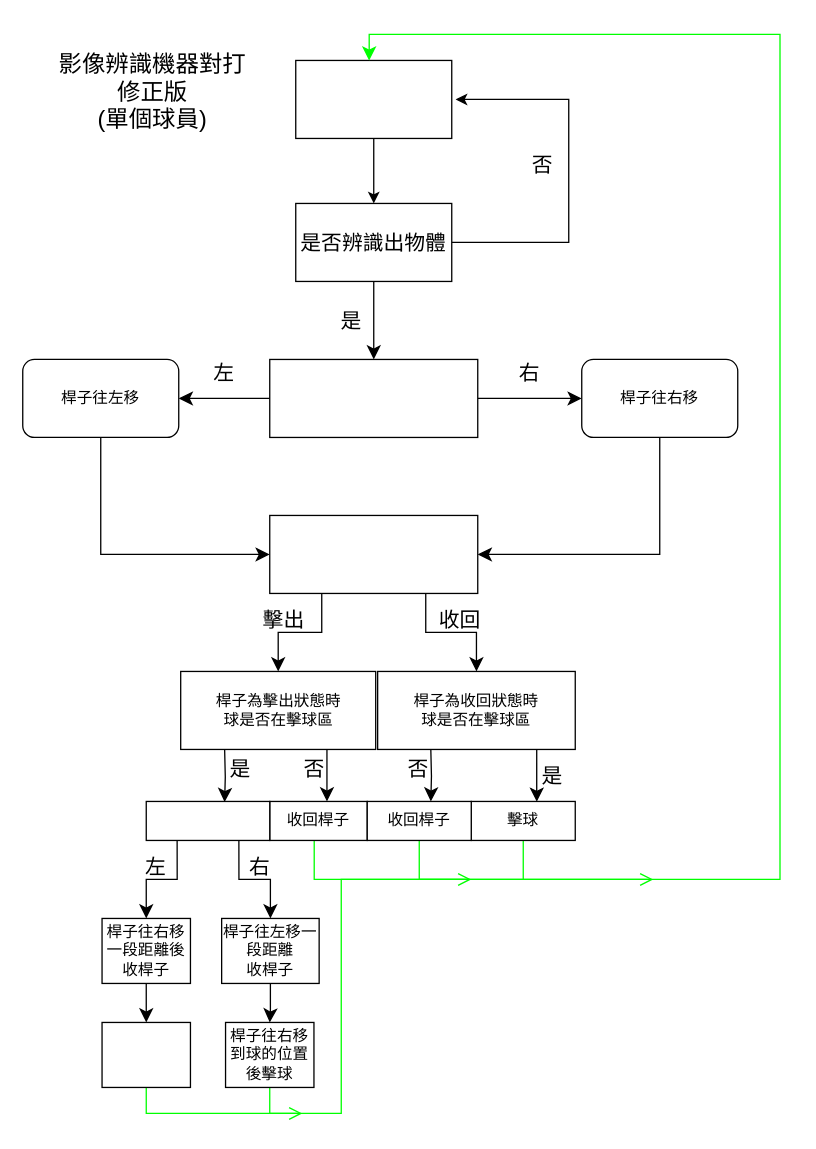
Some shapes in this 816 by 1149 pixel diagram are drawn without their labels. The centre of each missing label's shape, as x and y in pixels:
"判斷桿子在場地 左半或右半邊" belongs at (207,820).
"桿子往左移到球的位置後擊球" belongs at (145,1054).
"球在桿子左邊或右邊" belongs at (373,397).
"辨識桿子的狀態為 擊出或收回" belongs at (373,553).
"進行影像辨識" belongs at (373,98).
